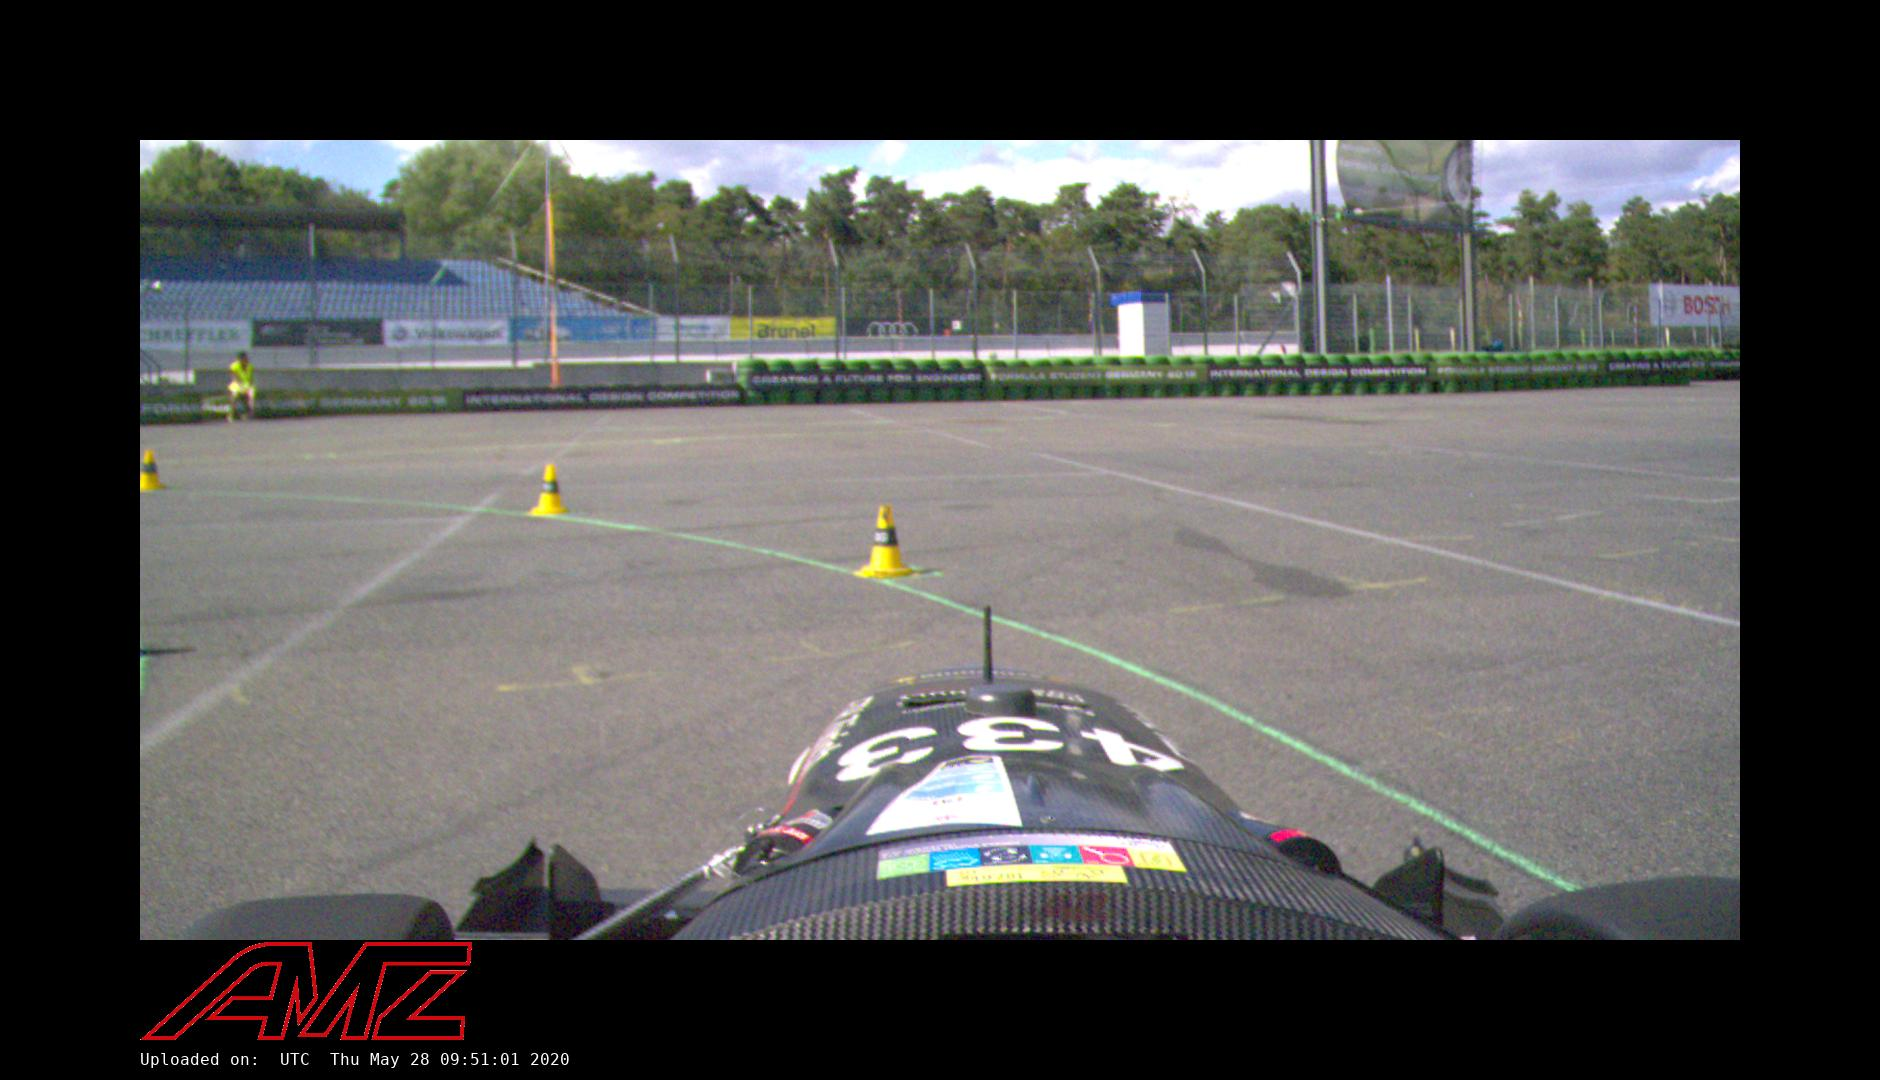yellow_cone: (857, 505, 912, 574), (528, 465, 567, 515), (139, 446, 164, 488)
